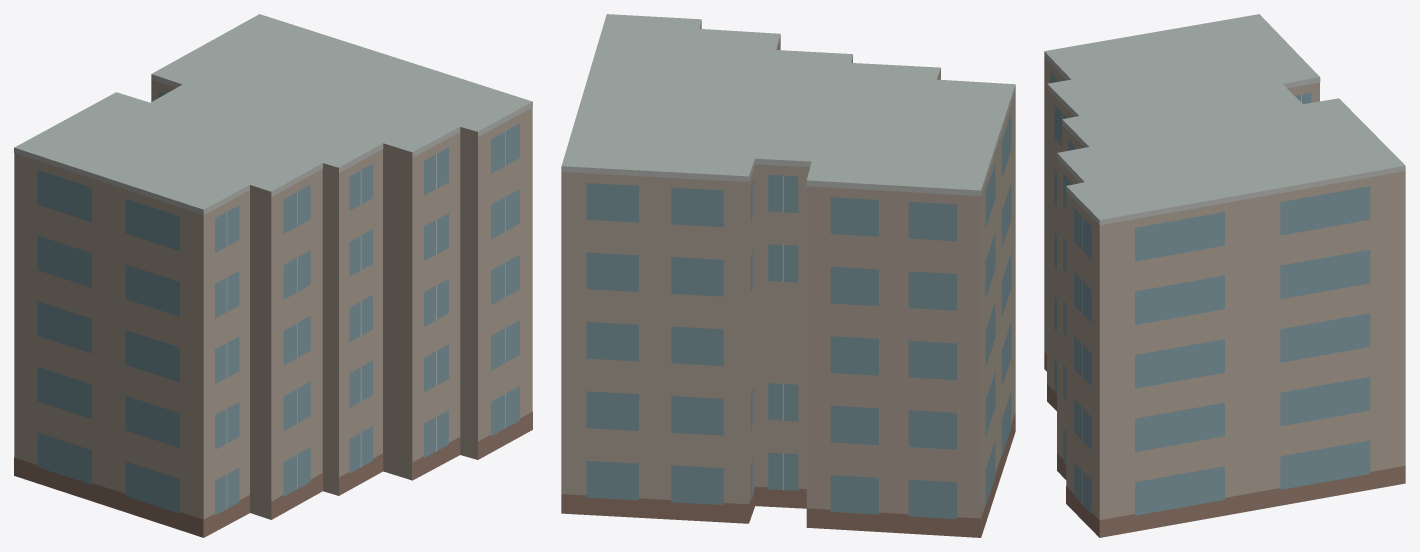
Rendered from survey-upis-32868634.glb.
3 views of the same model, side by side, from view 1: azimuth 30°, elevation 25°; view 2: azimuth 150°, elevation 25°; view 3: azimuth 270°, elevation 25° (orthographic). The views are drawn at different scales.
Parts seen in each view (by area): view 1: survey-upis-32868634.tmp; view 2: survey-upis-32868634.tmp; view 3: survey-upis-32868634.tmp.
Part boxes in pixels (box(x1,y1,x2,y2)): survey-upis-32868634.tmp: box(14, 14, 532, 537); survey-upis-32868634.tmp: box(561, 14, 1015, 537); survey-upis-32868634.tmp: box(1044, 14, 1405, 537).
Bounding box in the file's own units: 20.46 × 14.7 × 15.16.
